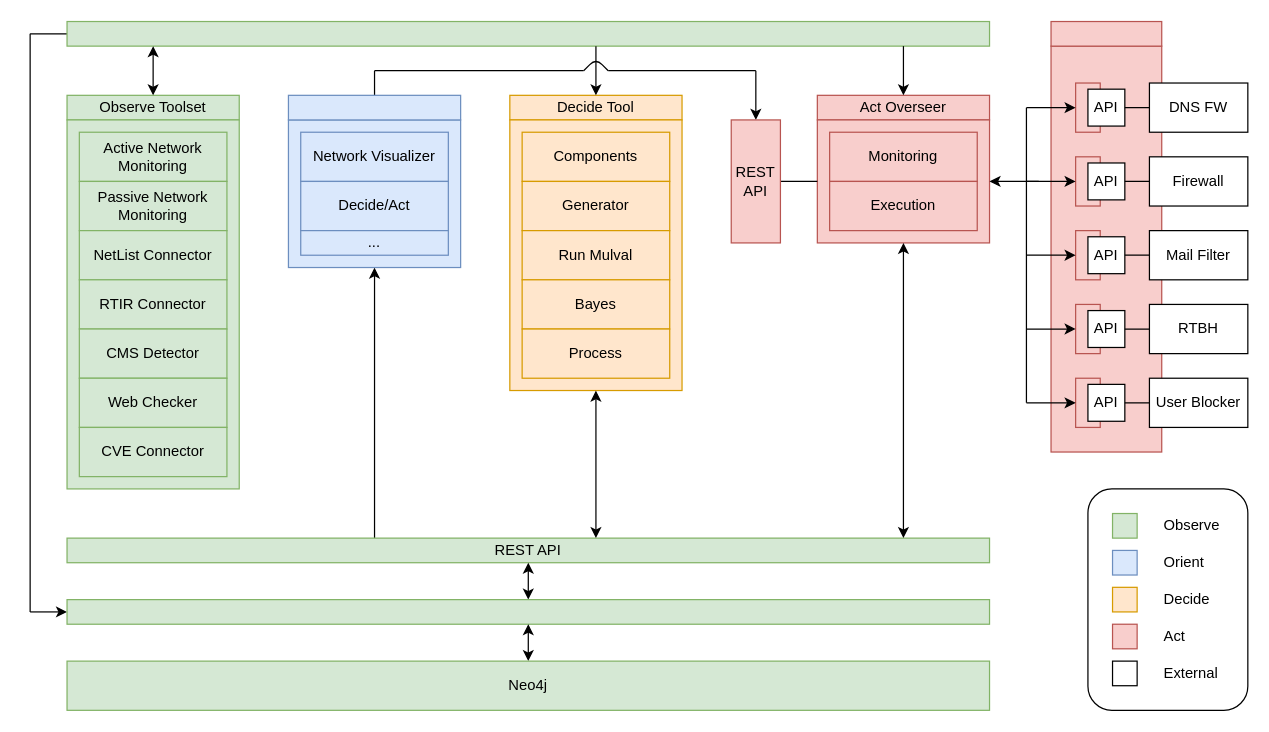
This 1269x732 diagram has some shape labels left out. The centre of each missing label's shape, as x and y in pixels:
Act Wrappers: point 1106,33
Dashboard: point 374,107
Database Adapter: point 528,611
Orchestration Service: point 528,33
